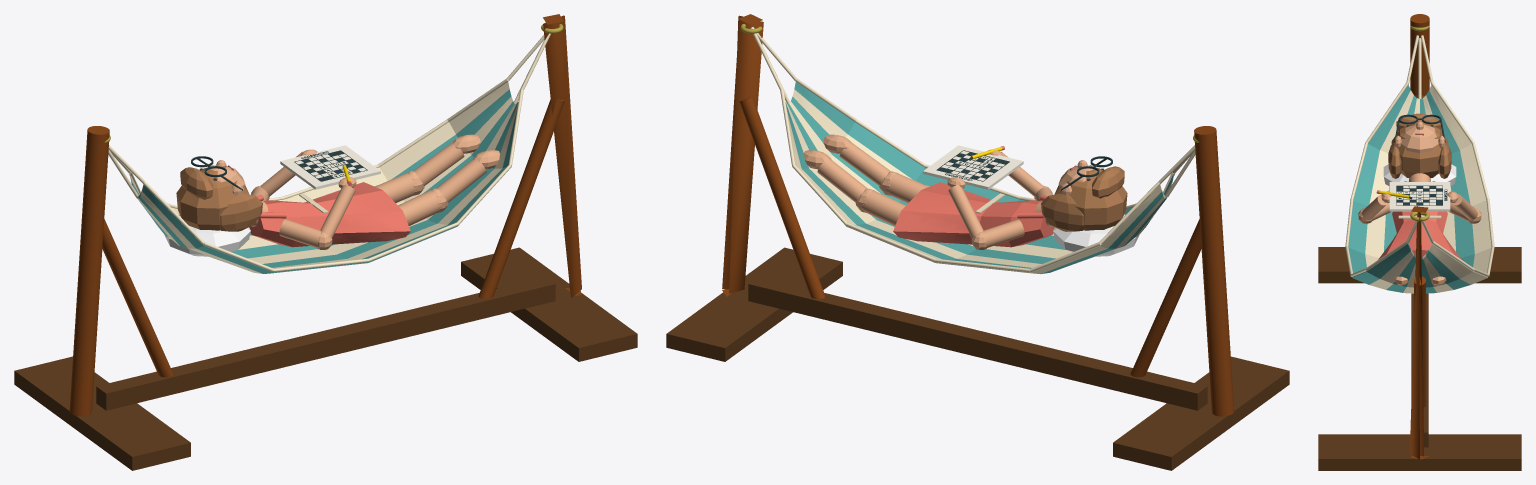
Rendered from hammock2.glb.
The picture shows the model from 3 angles, left to right: view 1: azimuth 30°, elevation 25°; view 2: azimuth 150°, elevation 25°; view 3: azimuth 270°, elevation 25°; orthographic projection. The views are drawn at different scales.
Visible parts, largest first — view 1: stand longitudinal spine.001, stand cross foot.001, stand cross foot.003, hammock upright.001, coral summer dress.001, hammock upright.003, upright diagonal brace.003, hammock woven stripe.015, upright diagonal brace.001, hammock woven stripe.003, crossword pad.001, hammock woven stripe.001 (+15 smaller); view 2: stand longitudinal spine.001, stand cross foot.001, stand cross foot.003, hammock upright.001, hammock upright.003, coral summer dress.001, upright diagonal brace.003, hammock woven stripe.001, upright diagonal brace.001, hammock woven stripe.013, crossword pad.001, hammock woven stripe.011 (+15 smaller); view 3: stand cross foot.003, hammock woven stripe.001, hammock woven stripe.015, hammock upright.003, stand cross foot.001, hammock woven stripe.013, hammock woven stripe.003, coral summer dress.001, crossword pad.001, light brown bob hair.001, hammock upright.001, p.001 (+15 smaller).
Boxes of the visible parts, x1,y1,x2,y2 form: stand longitudinal spine.001: (96, 276, 555, 410); stand cross foot.001: (14, 356, 190, 470); stand cross foot.003: (461, 247, 637, 361); hammock upright.001: (69, 126, 109, 416); coral summer dress.001: (249, 182, 410, 247); hammock upright.003: (543, 14, 581, 297); upright diagonal brace.003: (478, 99, 564, 298); hammock woven stripe.015: (130, 82, 509, 214); upright diagonal brace.001: (102, 219, 173, 377); hammock woven stripe.003: (140, 103, 518, 273); crossword pad.001: (280, 145, 380, 189); hammock woven stripe.001: (142, 111, 516, 273); stand longitudinal spine.001: (748, 276, 1207, 410); stand cross foot.001: (1113, 356, 1289, 470); stand cross foot.003: (666, 247, 842, 361); hammock upright.001: (1194, 126, 1234, 416); hammock upright.003: (722, 14, 763, 296); coral summer dress.001: (893, 182, 1054, 247); upright diagonal brace.003: (739, 97, 825, 299); hammock woven stripe.001: (794, 82, 1173, 214); upright diagonal brace.001: (1130, 219, 1201, 377); hammock woven stripe.013: (785, 103, 1163, 273); crossword pad.001: (923, 145, 1023, 189); hammock woven stripe.011: (785, 102, 1165, 267); stand cross foot.003: (1318, 434, 1521, 470); hammock woven stripe.001: (1348, 85, 1410, 284); hammock woven stripe.015: (1429, 85, 1491, 284); hammock upright.003: (1409, 206, 1429, 459); stand cross foot.001: (1318, 247, 1521, 283); hammock woven stripe.013: (1426, 90, 1474, 289); hammock woven stripe.003: (1365, 90, 1413, 289); coral summer dress.001: (1378, 211, 1461, 259); crossword pad.001: (1389, 182, 1450, 211); light brown bob hair.001: (1391, 122, 1448, 178); hammock upright.001: (1410, 14, 1429, 96); p.001: (1401, 124, 1438, 152).
Bounding box in the file's own units: 217 × 119 × 86.98.
